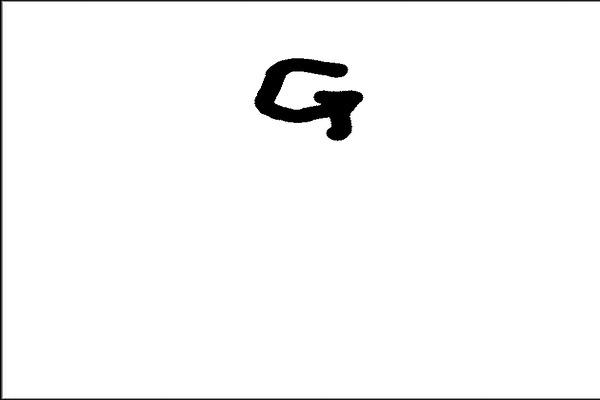G: (251, 53, 367, 144)
